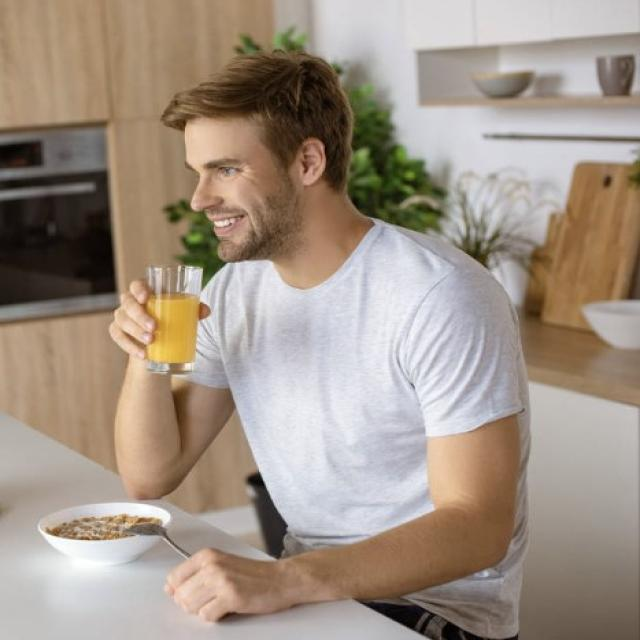eating-person: (35, 45, 538, 640)
